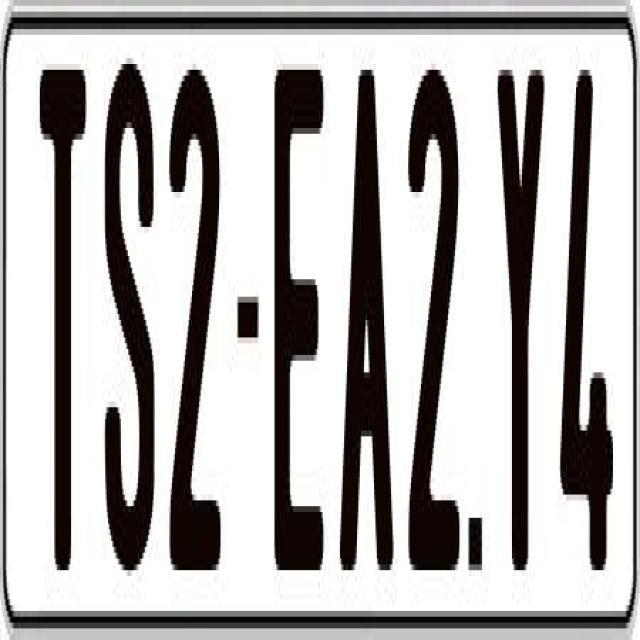2: (166, 64, 225, 588), (407, 70, 461, 606)
4: (558, 70, 614, 600)
A: (338, 58, 398, 594)
E: (274, 58, 332, 582)
S: (104, 58, 156, 582)
T: (36, 64, 86, 594)
Y: (498, 70, 552, 606)
